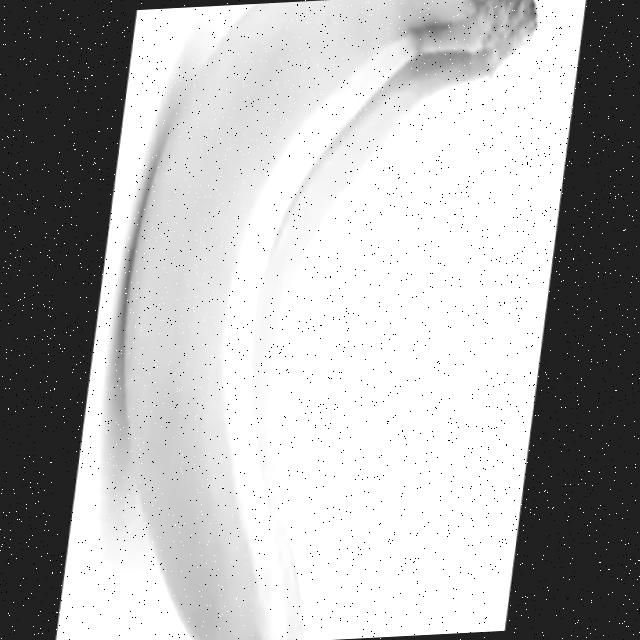banana: (101, 0, 574, 640)
